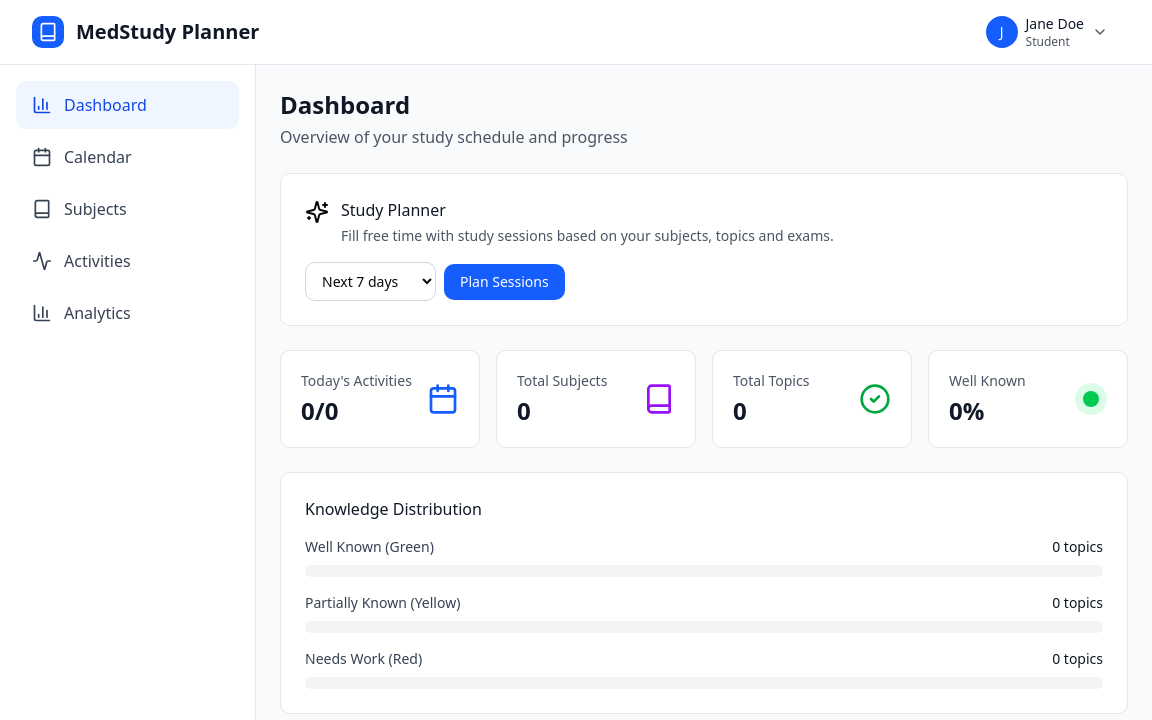
Scenario: UserProfile menu › "Sign Out" revokes the refresh token and returns to sign in
Expected: the heading "Dashboard" is shown, [280,88,410,121]
Click the button "J Jane Doe student" at (1047, 32), box [974,6,1120,58]
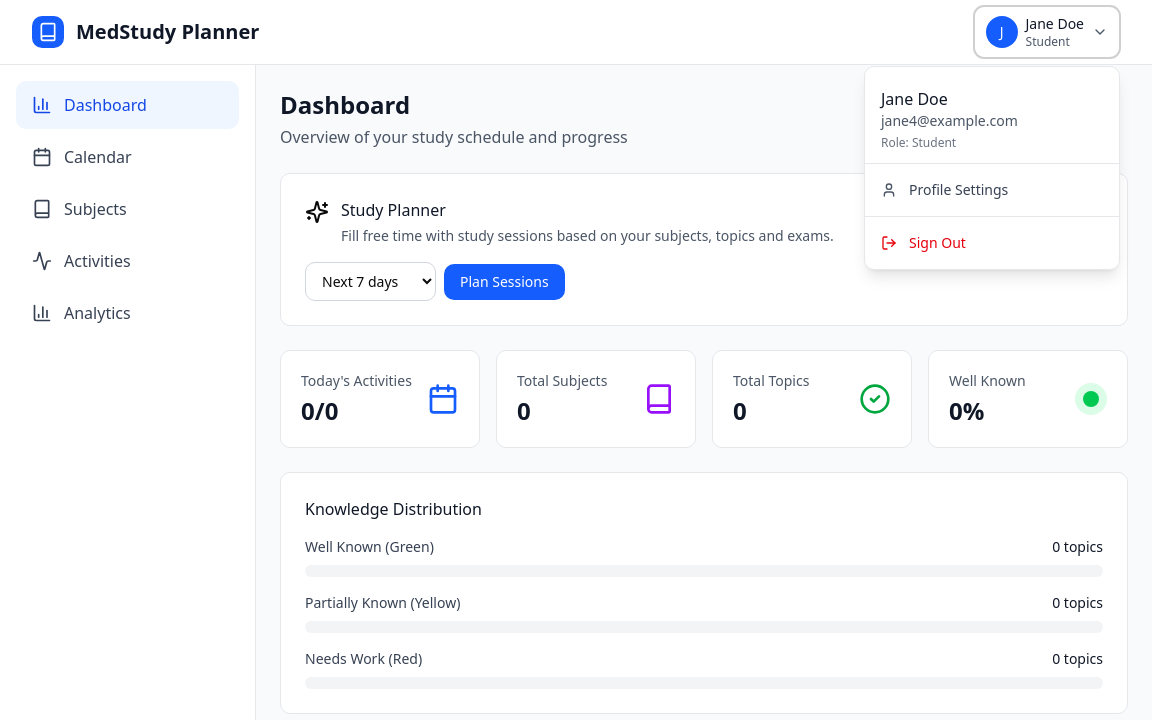
Click the button "Sign Out" at (992, 243), box [865,225,1119,261]
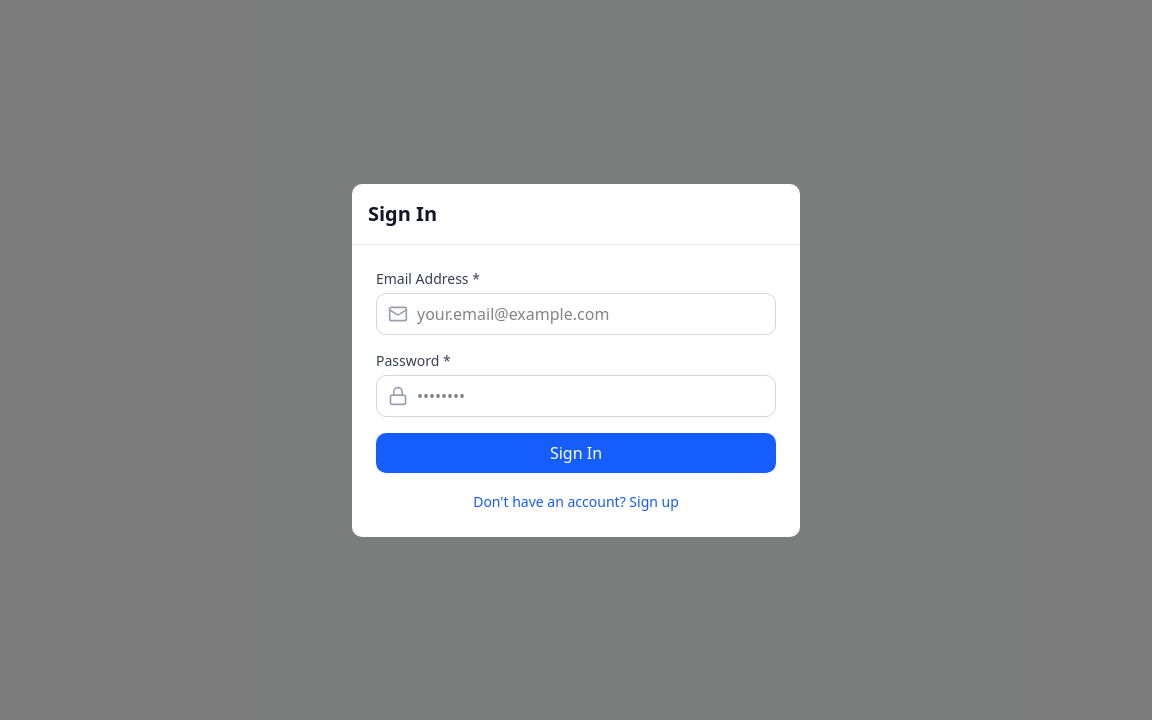
Expected: the heading "Sign In" is shown, [368,200,437,226]
